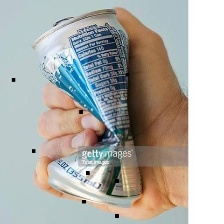can: (28, 6, 152, 208)
